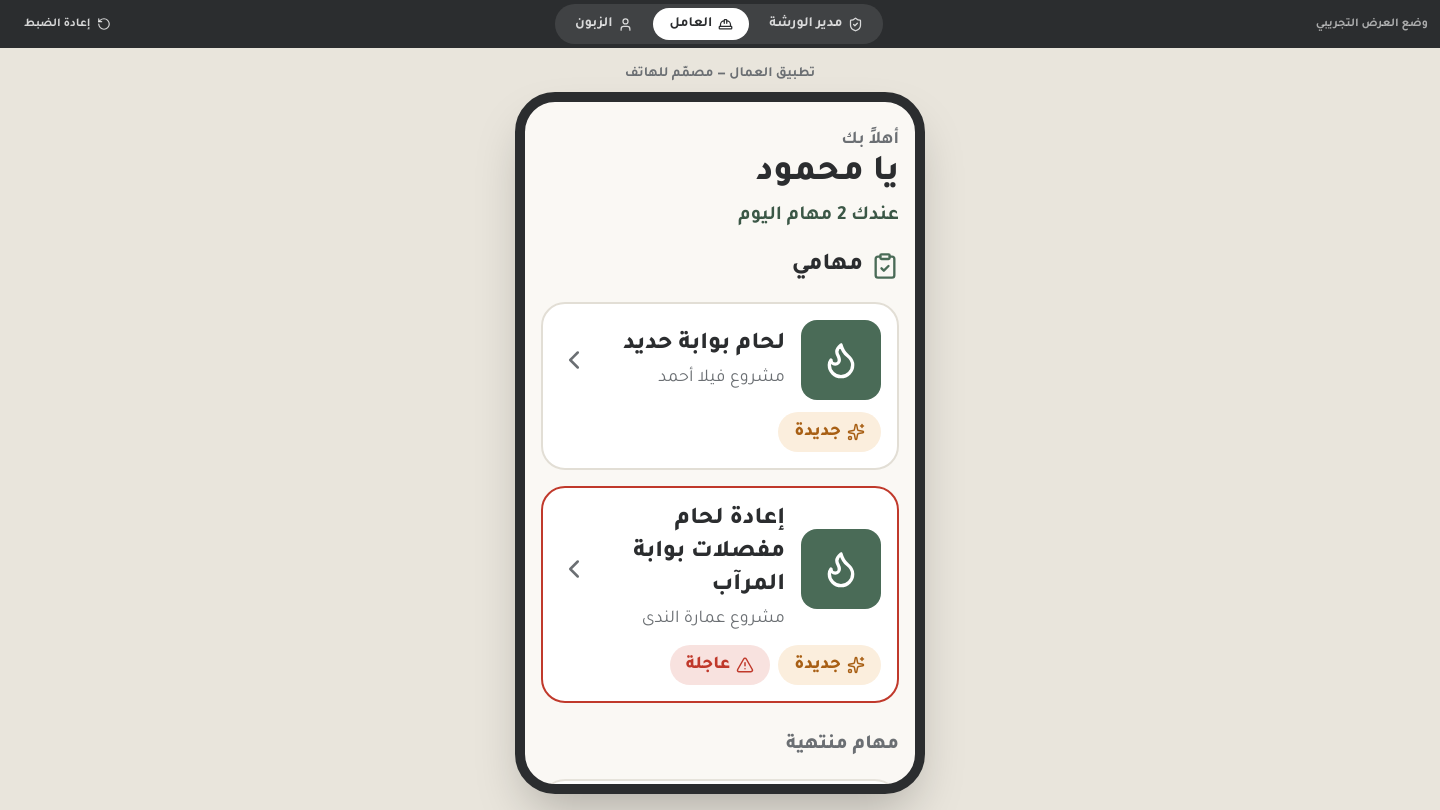
Scenario: flows › worker flow
Click the link "لحام بوابة حديد مشروع فيلا أحمد جديدة": (720, 386) [541, 302, 899, 470]
(page scrolled)
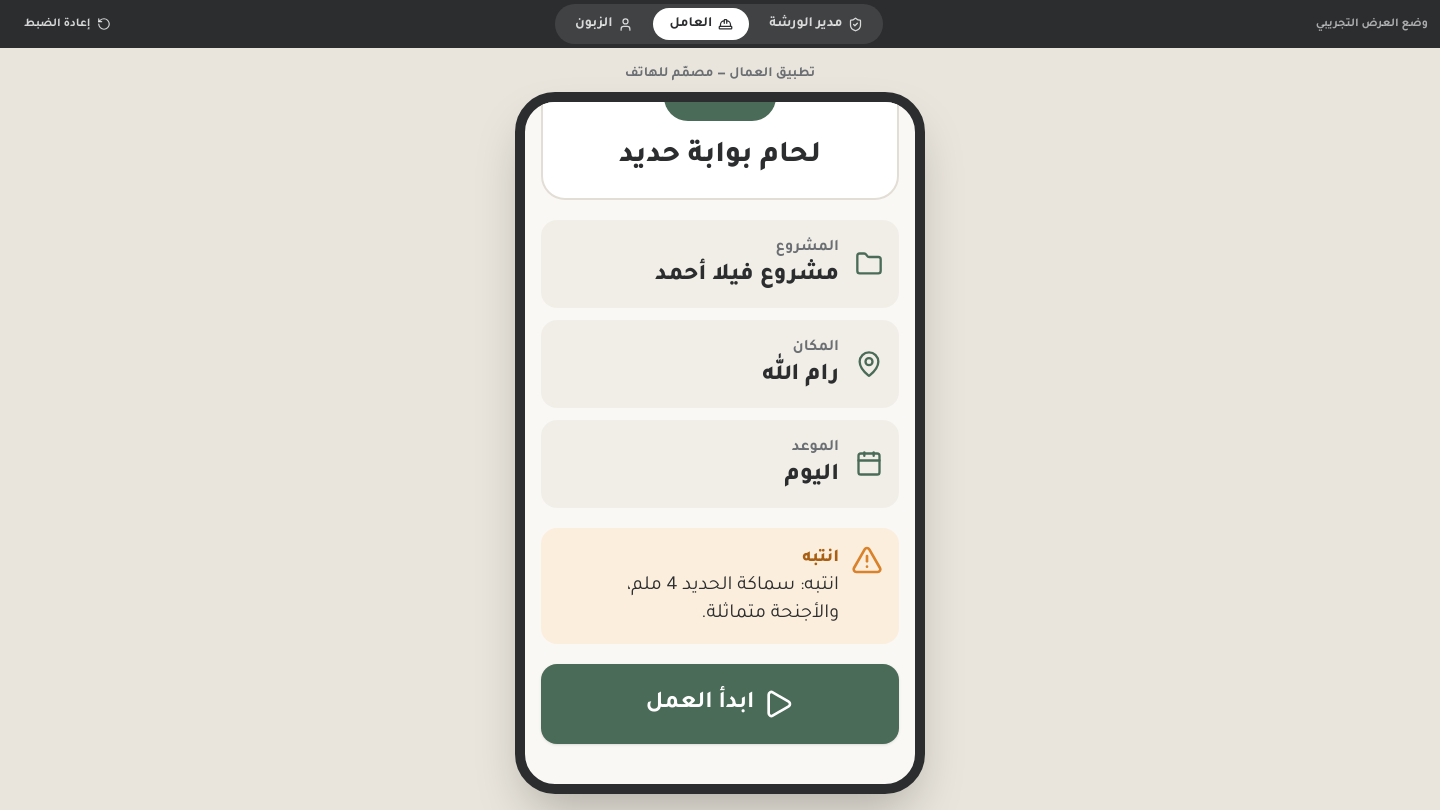
Click the button "ابدأ العمل": (720, 704) [541, 664, 899, 744]
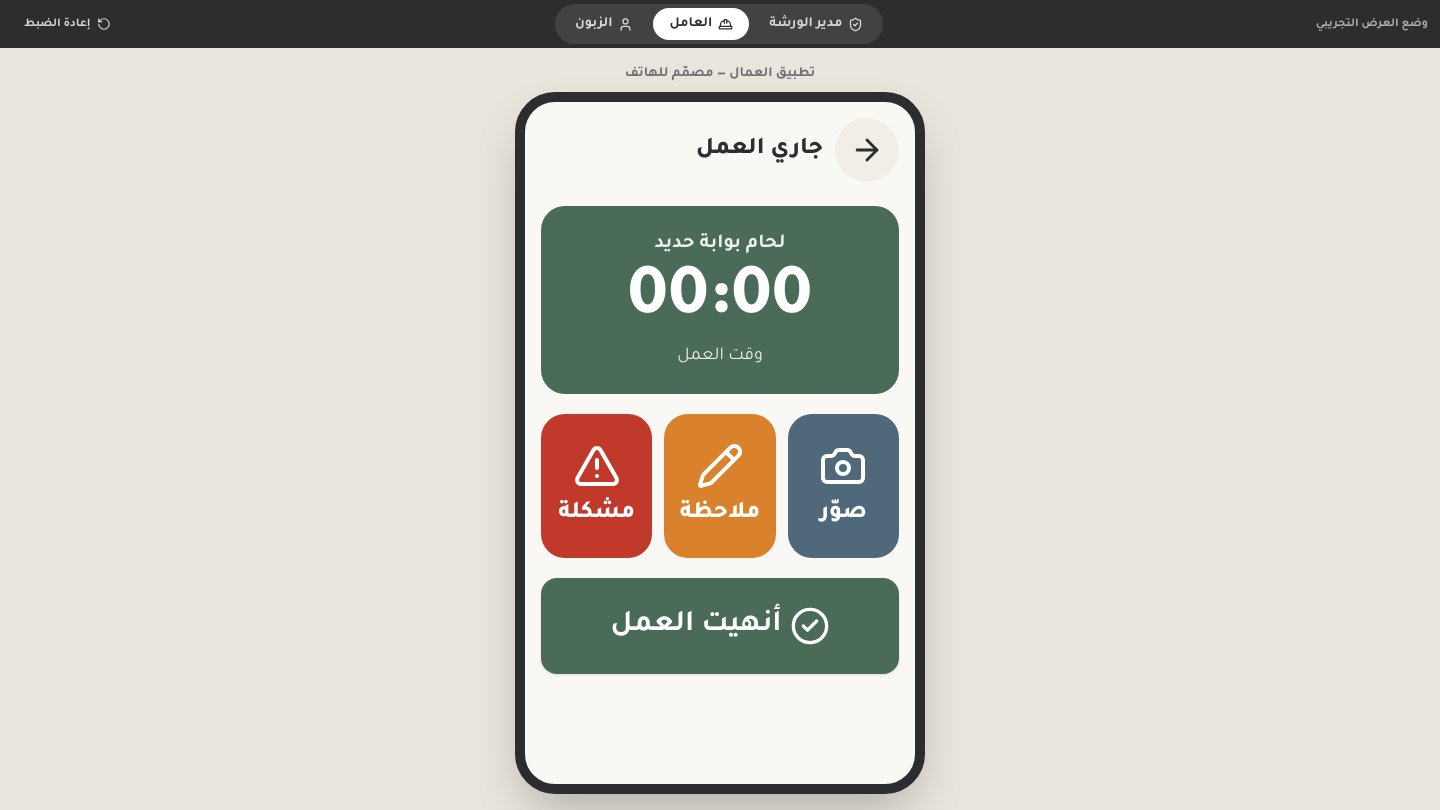
Expected: the heading "جاري العمل" is shown, [696, 135, 823, 165]
Click the link "أنهيت العمل": (720, 644) [541, 636, 899, 652]
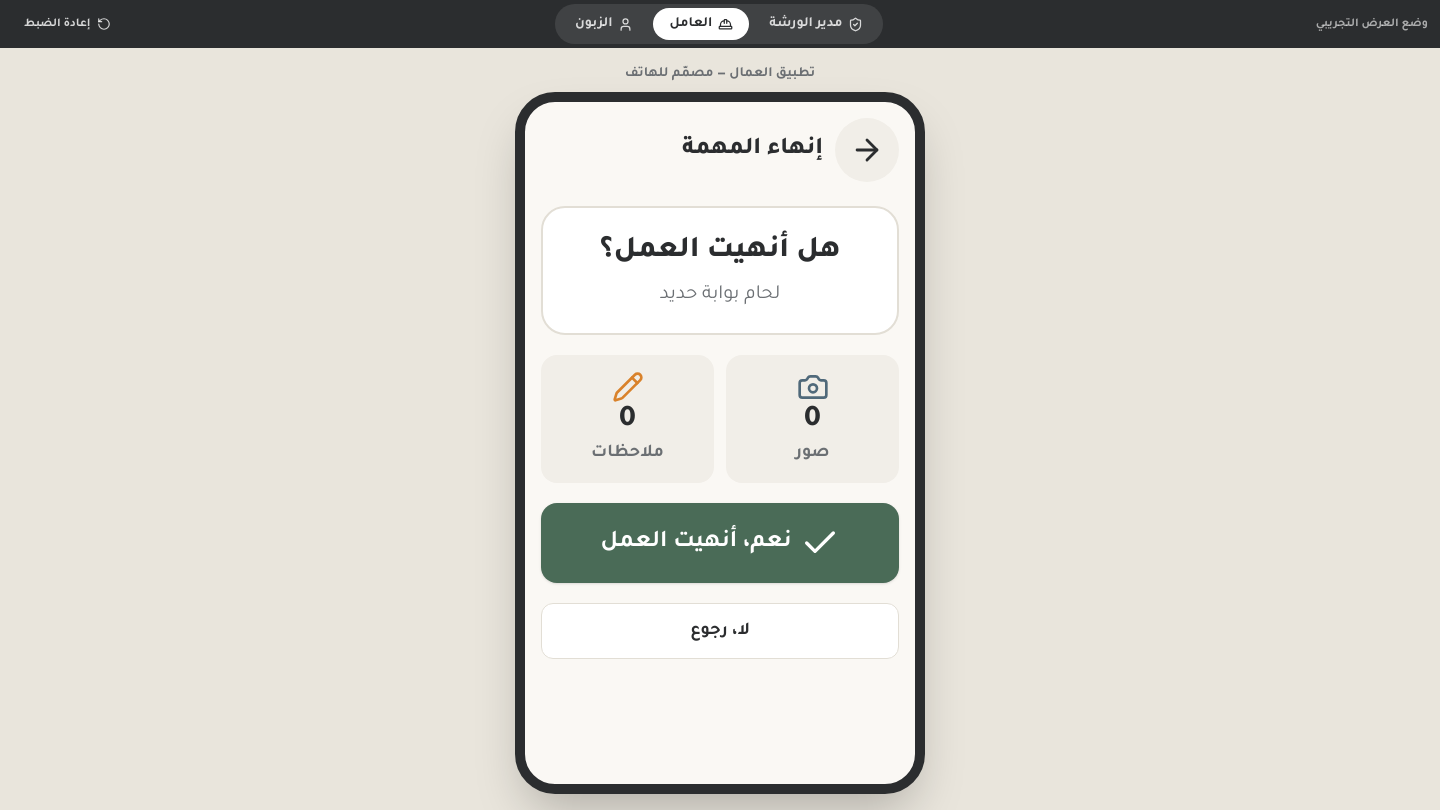
Click the button "نعم، أنهيت العمل": (720, 543) [541, 503, 899, 583]
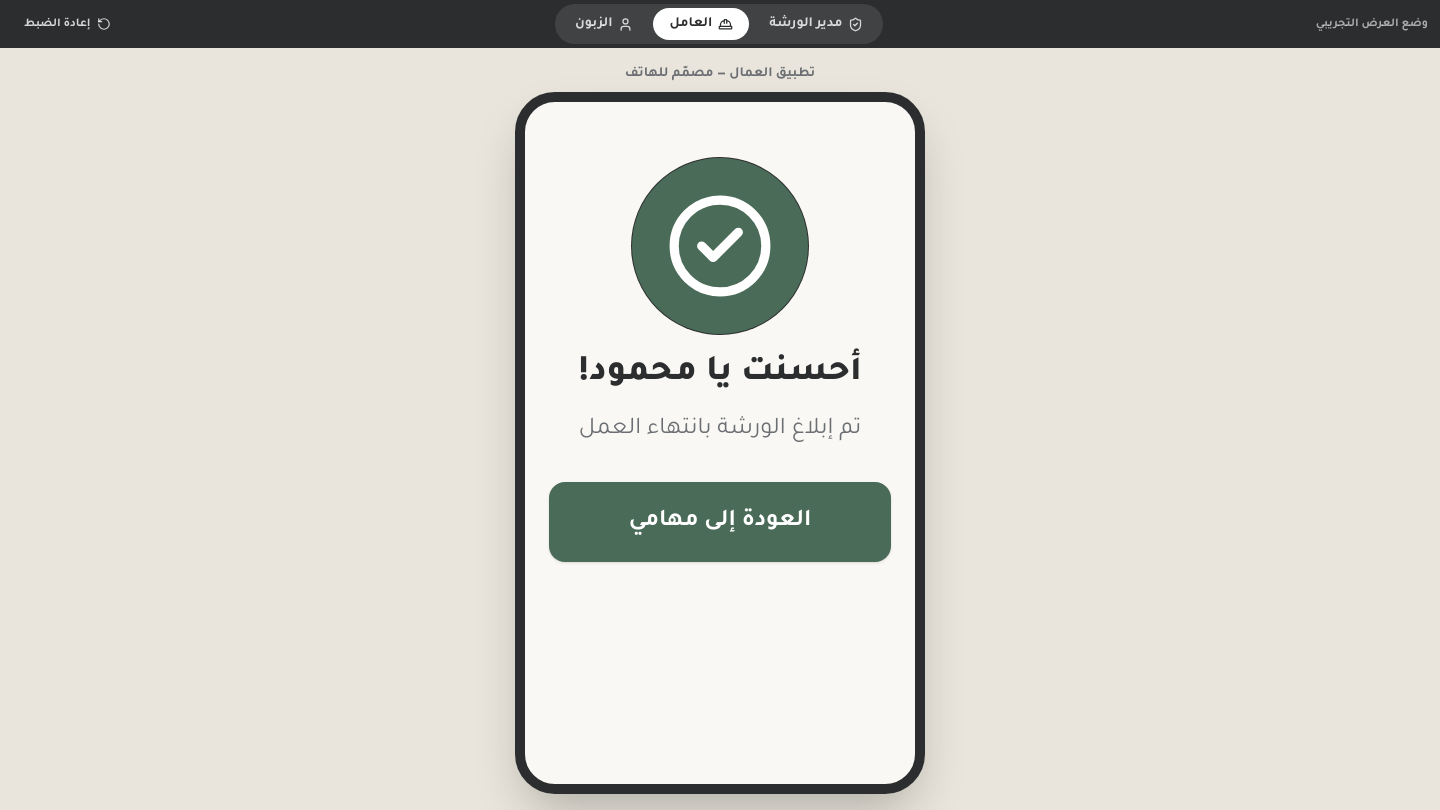
Expected: the heading "أحسنت يا محمود!" is shown, [578, 356, 862, 392]
